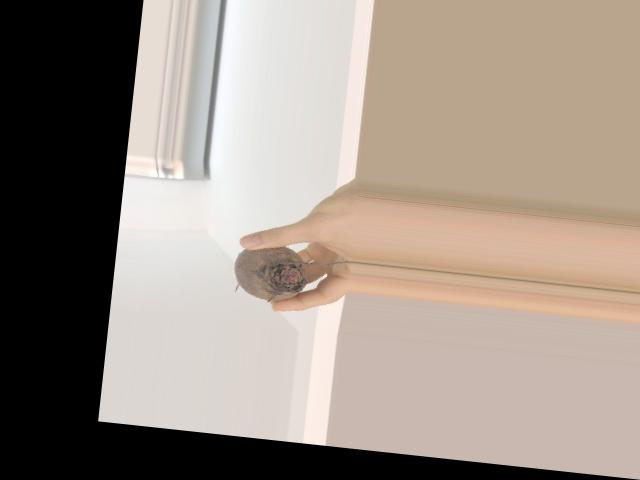beet: (230, 239, 352, 310)
